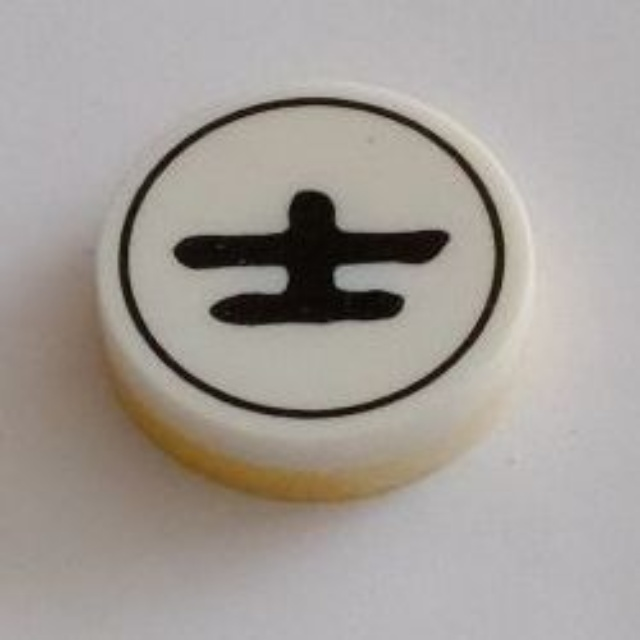black_si: (86, 75, 549, 504)
